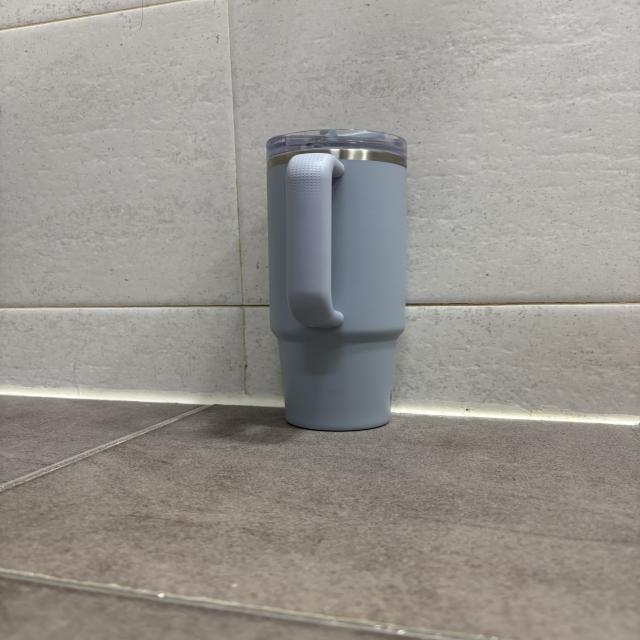waterbottle: (263, 127, 406, 431)
